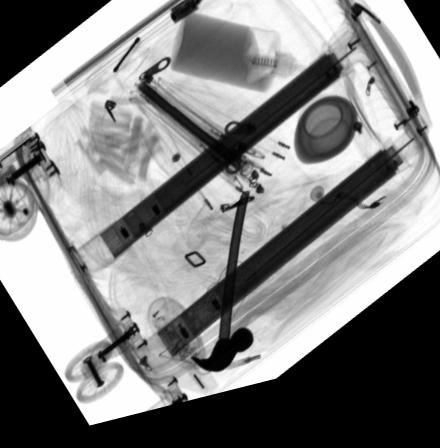Hammer: (190, 203, 255, 384)
